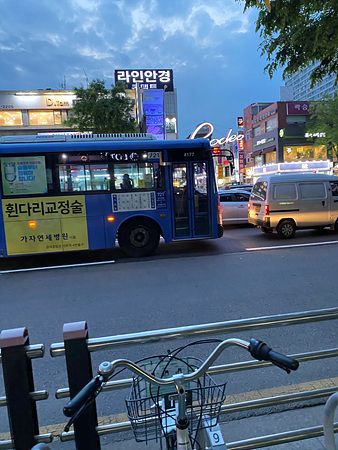entrance: (169, 157, 210, 238)
